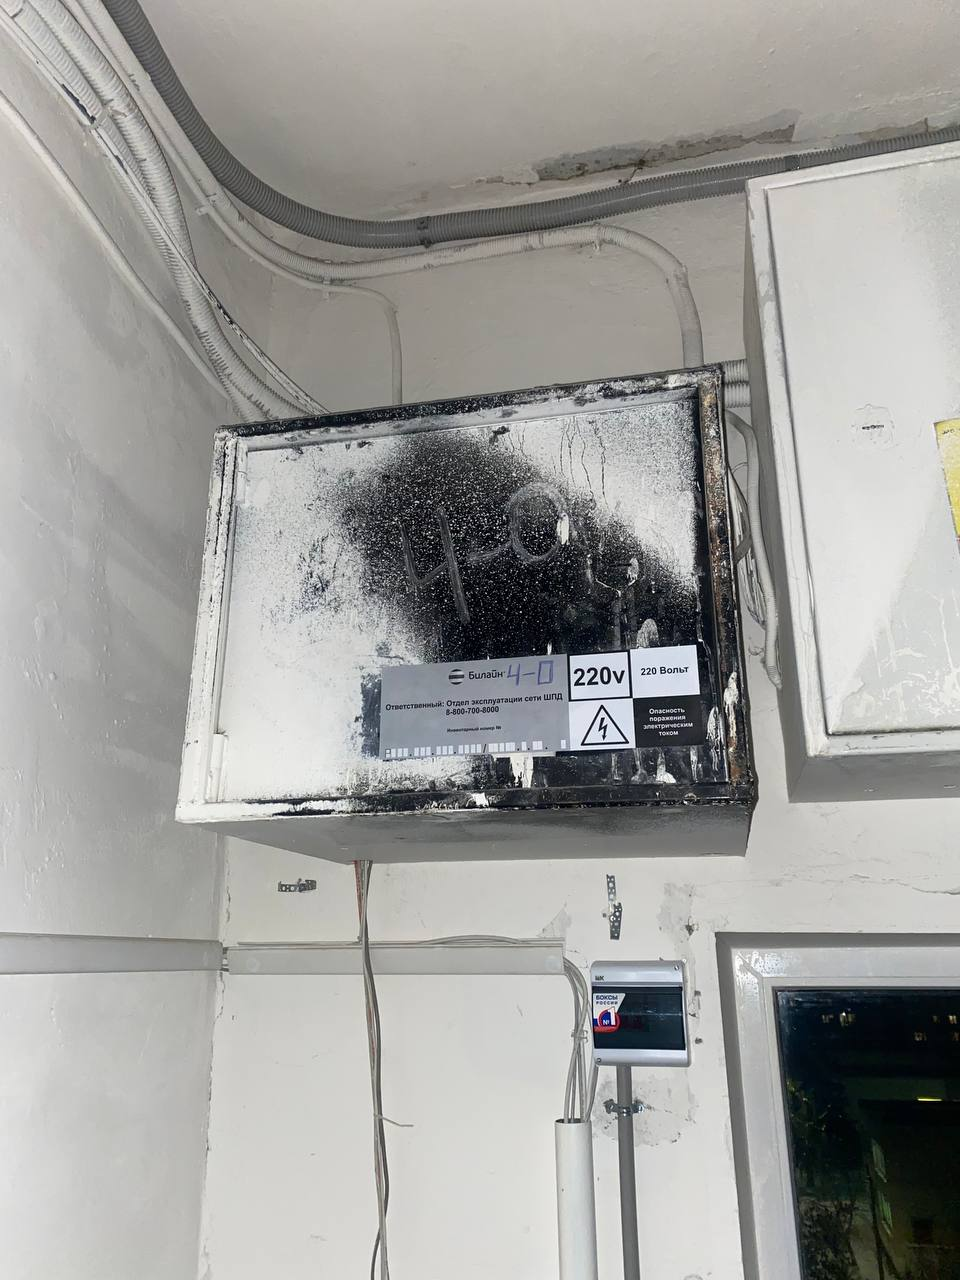shta-9m: (167, 353, 764, 869)
